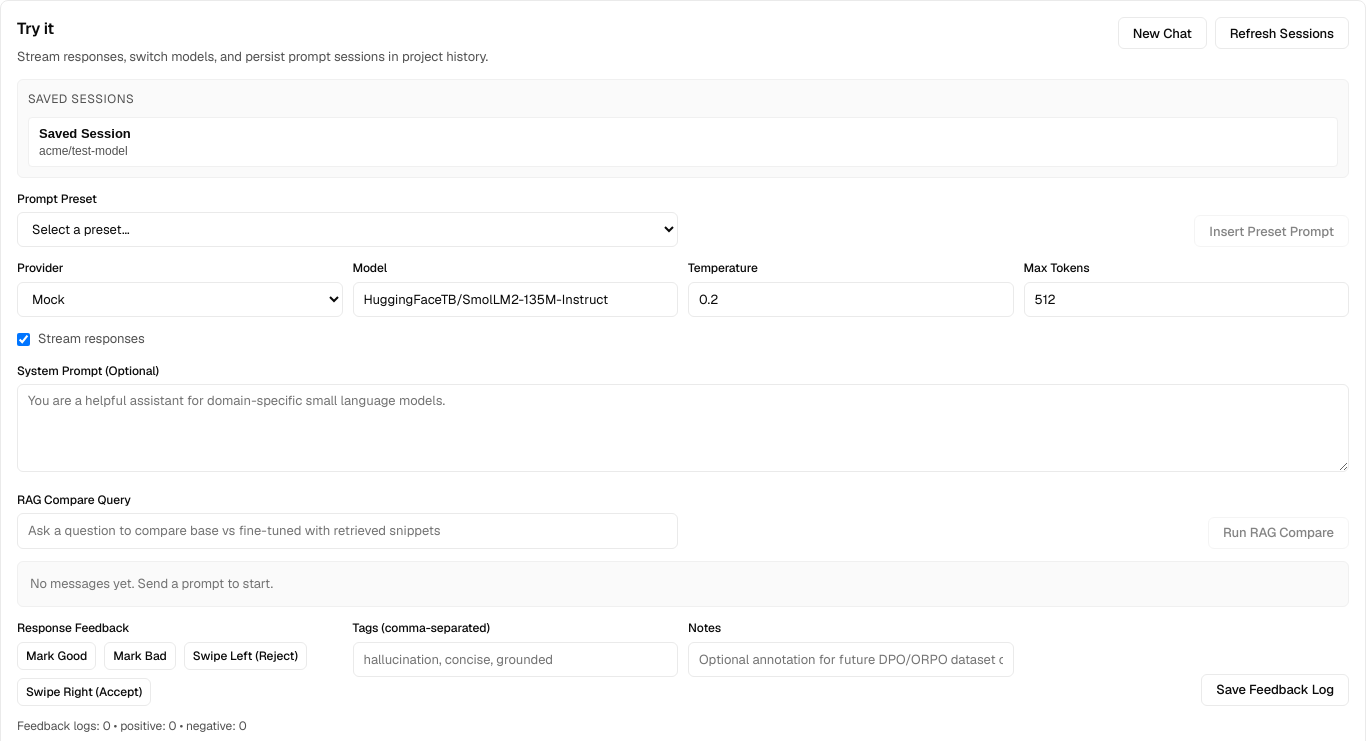
Test: ChatPlaygroundPanel › restores messages when opening a saved session
This screenshot has width=1366, height=741.
Click the button "Saved Session acme/test-model": (85, 133) [28,117,1338,167]
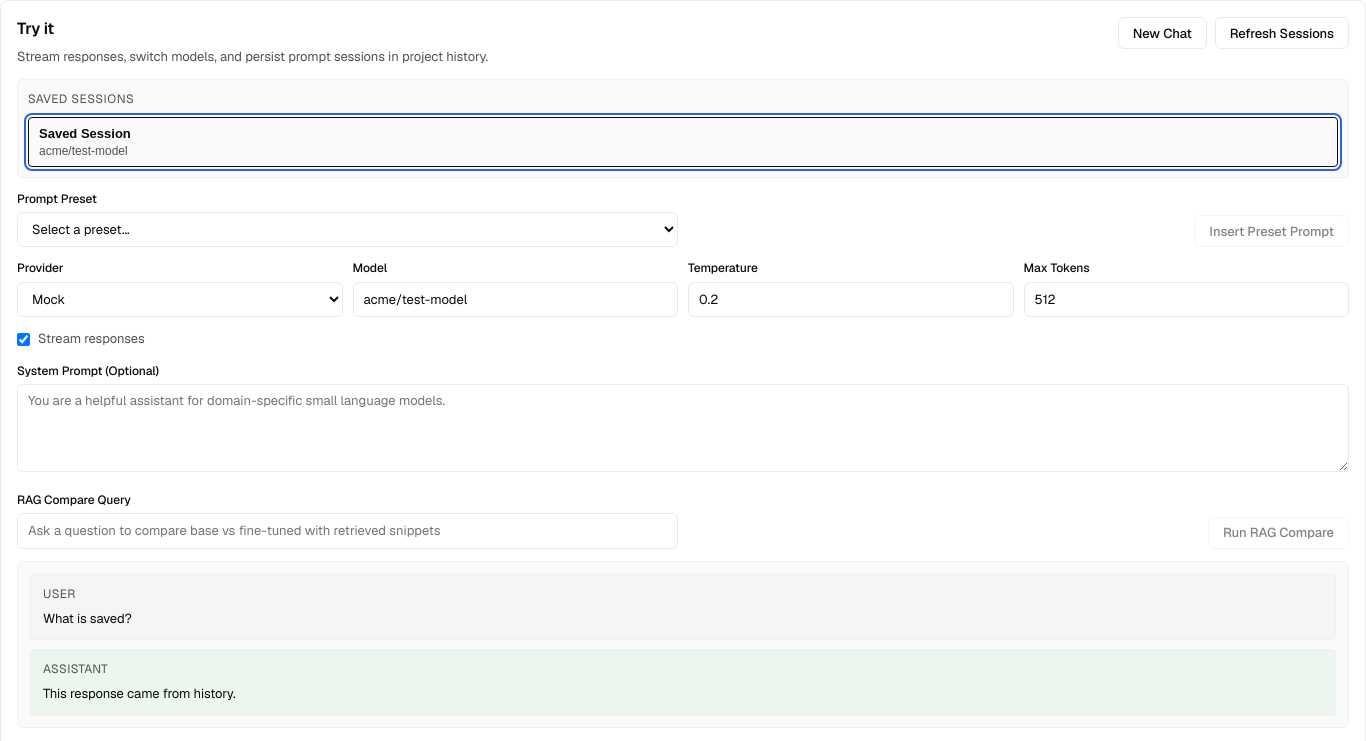
Now the text "This response came from history." is shown, box [43,685,236,702]
Now the text "What is saved?" is shown, box [43,610,132,626]
